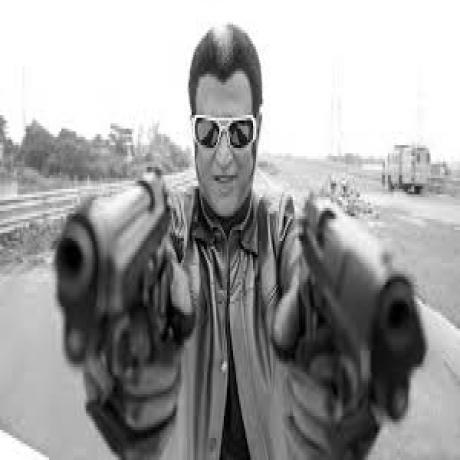Guns: (54, 156, 188, 433), (291, 188, 418, 442)
